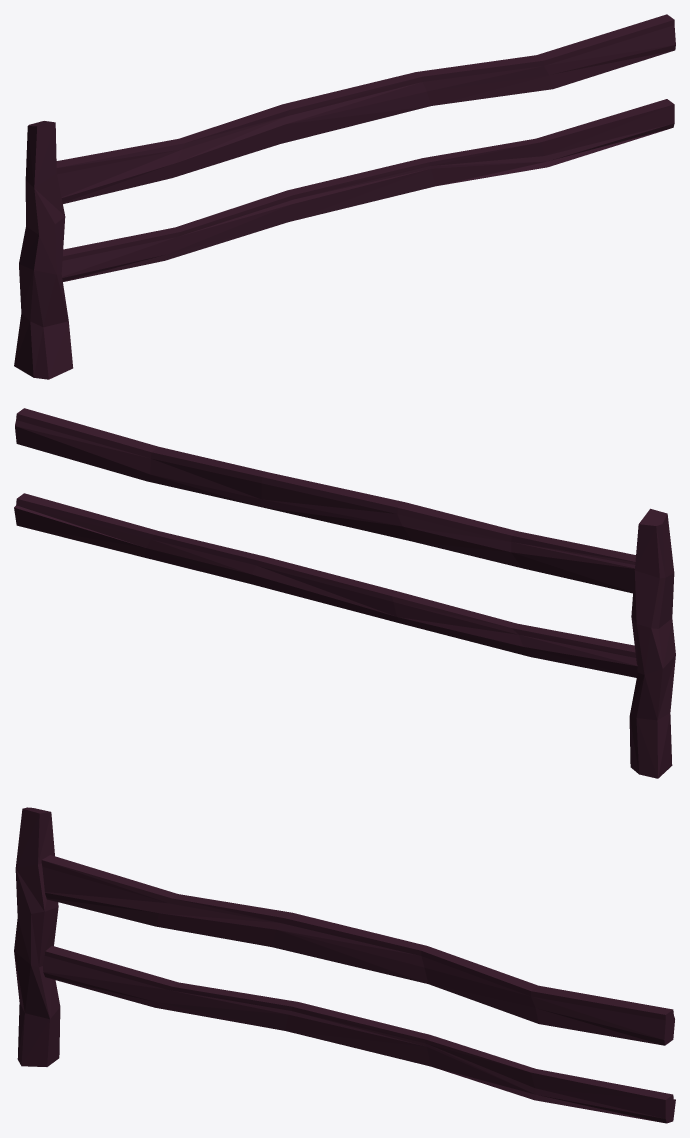
The model's file is Fence01.FBX.
The picture shows the model from 3 angles, top to bottom: view 1: azimuth 30°, elevation 25°; view 2: azimuth 150°, elevation 25°; view 3: azimuth 330°, elevation 25°; orthographic projection.
Visible parts, largest first — view 1: Fence01_Wedge01, Fence01_Wedge02, Fence01_Pole; view 2: Fence01_Wedge01, Fence01_Wedge02, Fence01_Pole; view 3: Fence01_Wedge01, Fence01_Wedge02, Fence01_Pole.
Boxes of the visible parts, left/top/right/bottom form: Fence01_Wedge01: left=56, top=14, right=675, bottom=203; Fence01_Wedge02: left=61, top=99, right=674, bottom=281; Fence01_Pole: left=14, top=121, right=73, bottom=379; Fence01_Wedge01: left=15, top=408, right=635, bottom=593; Fence01_Wedge02: left=14, top=493, right=637, bottom=677; Fence01_Pole: left=629, top=508, right=675, bottom=778; Fence01_Wedge01: left=41, top=855, right=674, bottom=1045; Fence01_Wedge02: left=42, top=945, right=675, bottom=1123; Fence01_Pole: left=14, top=807, right=60, bottom=1066.
Size of the model in its own units: 4.05 by 1.5 by 0.2485.
1 material, 1 textured.
